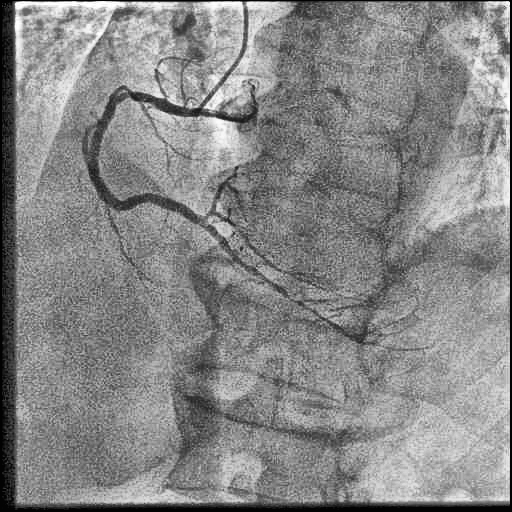pborca: (207, 166, 238, 219)
pda: (204, 224, 363, 343)
rca: (86, 86, 207, 227)
